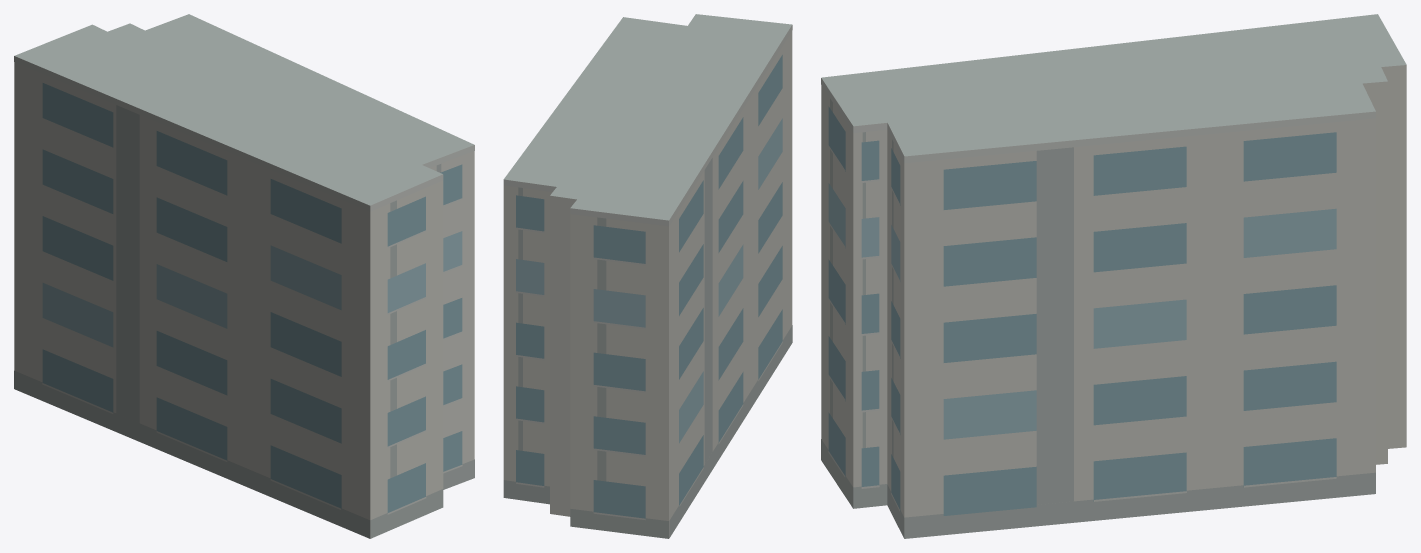
The model's file is survey-upis-32971330.glb.
3 views of the same model, side by side, from view 1: azimuth 30°, elevation 25°; view 2: azimuth 150°, elevation 25°; view 3: azimuth 270°, elevation 25° (orthographic). The views are drawn at different scales.
Visible parts, largest first — view 1: survey-upis-32971330.tmp; view 2: survey-upis-32971330.tmp; view 3: survey-upis-32971330.tmp.
Part boxes in pixels (x1,y1,x2,y2): survey-upis-32971330.tmp: (14, 14, 474, 538); survey-upis-32971330.tmp: (503, 14, 792, 538); survey-upis-32971330.tmp: (821, 14, 1406, 538).
Bounding box in the file's own units: 10.63 × 13.3 × 18.47.
